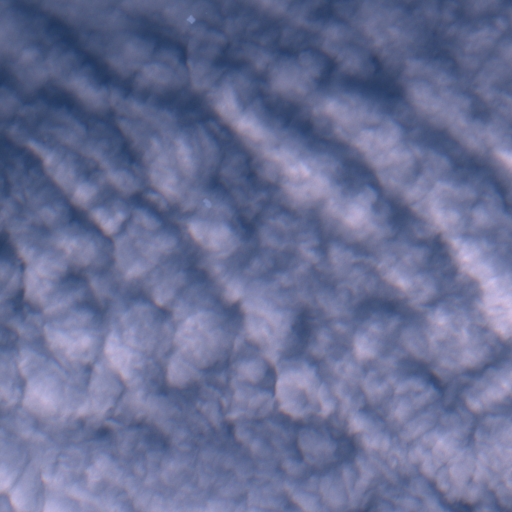Iceberg: (203, 198, 211, 207), (187, 15, 195, 23)
